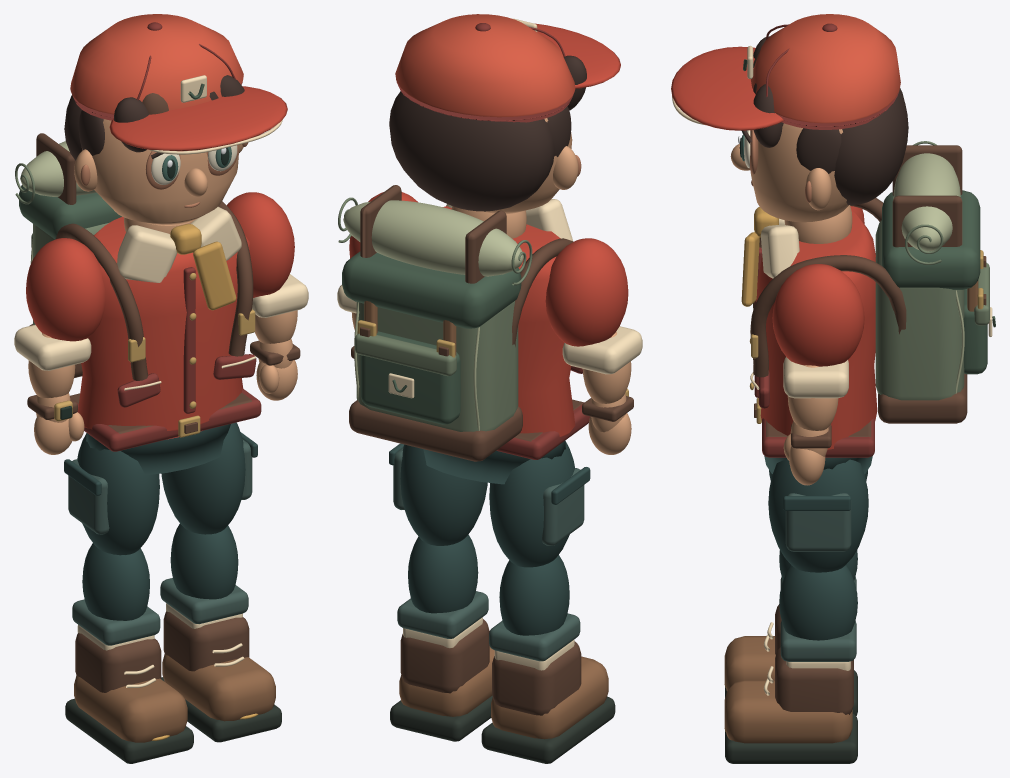
Rendered from explorer.glb.
3 renders of one model, left to right at view 1: azimuth 30°, elevation 25°; view 2: azimuth 150°, elevation 25°; view 3: azimuth 270°, elevation 25°, orthographic. The views are drawn at different scales.
Parts seen in each view (by area): view 1: body_jacket, head_cap, head_skin, head_jacket, leftArm_jacket, leftLeg_trousers, body_red_dark, rightLeg_trousers, leftShin_leather_light, rightShin_leather_light, body_leather, body_lining (+29 smaller); view 2: head_hair, head_cap, pack_canvas_dark, pack_canvas, pack_roll, body_jacket, pack_leather, leftArm_jacket, leftLeg_trousers, rightLeg_trousers, leftShin_trousers, rightShin_trousers (+22 smaller); view 3: head_cap, pack_canvas, head_hair, body_jacket, rightArm_jacket, head_skin, pack_canvas_dark, rightLeg_trousers, head_jacket, pack_leather, rightShin_leather_light, rightShin_trousers (+16 smaller).
Part boxes in pixels (x1=…): body_jacket: x1=78, y1=216, x2=249, y2=439; head_cap: x1=70, y1=14, x2=243, y2=114; head_skin: x1=74, y1=119, x2=243, y2=234; head_jacket: x1=109, y1=86, x2=287, y2=151; leftArm_jacket: x1=26, y1=238, x2=105, y2=341; leftLeg_trousers: x1=64, y1=433, x2=159, y2=555; body_red_dark: x1=71, y1=267, x2=261, y2=451; rightLeg_trousers: x1=161, y1=422, x2=257, y2=534; leftShin_leather_light: x1=74, y1=675, x2=187, y2=742; rightShin_leather_light: x1=162, y1=653, x2=275, y2=721; body_leather: x1=55, y1=201, x2=253, y2=433; body_lining: x1=117, y1=206, x2=255, y2=390; head_hair: x1=389, y1=55, x2=586, y2=211; head_cap: x1=395, y1=14, x2=575, y2=117; pack_canvas_dark: x1=342, y1=251, x2=521, y2=424; pack_canvas: x1=338, y1=197, x2=532, y2=431; pack_roll: x1=343, y1=200, x2=523, y2=430; body_jacket: x1=443, y1=206, x2=575, y2=436; pack_leather: x1=349, y1=185, x2=522, y2=461; leftArm_jacket: x1=545, y1=238, x2=628, y2=346; leftLeg_trousers: x1=489, y1=441, x2=590, y2=567; rightLeg_trousers: x1=389, y1=443, x2=487, y2=545; leftShin_trousers: x1=499, y1=555, x2=569, y2=635; rightShin_trousers: x1=408, y1=534, x2=478, y2=613; head_cap: x1=750, y1=14, x2=900, y2=123; pack_canvas: x1=875, y1=141, x2=989, y2=400; head_hair: x1=742, y1=36, x2=908, y2=204; body_jacket: x1=756, y1=210, x2=877, y2=449; rightArm_jacket: x1=772, y1=264, x2=864, y2=366; head_skin: x1=730, y1=123, x2=852, y2=243; pack_canvas_dark: x1=882, y1=190, x2=995, y2=374; rightLeg_trousers: x1=768, y1=459, x2=868, y2=572; head_jacket: x1=671, y1=46, x2=783, y2=130; pack_leather: x1=878, y1=145, x2=986, y2=423; rightShin_leather_light: x1=724, y1=680, x2=852, y2=743; rightShin_trousers: x1=779, y1=565, x2=857, y2=640.
Bounding box in the file's own units: 0.703 × 1.71 × 0.718.
